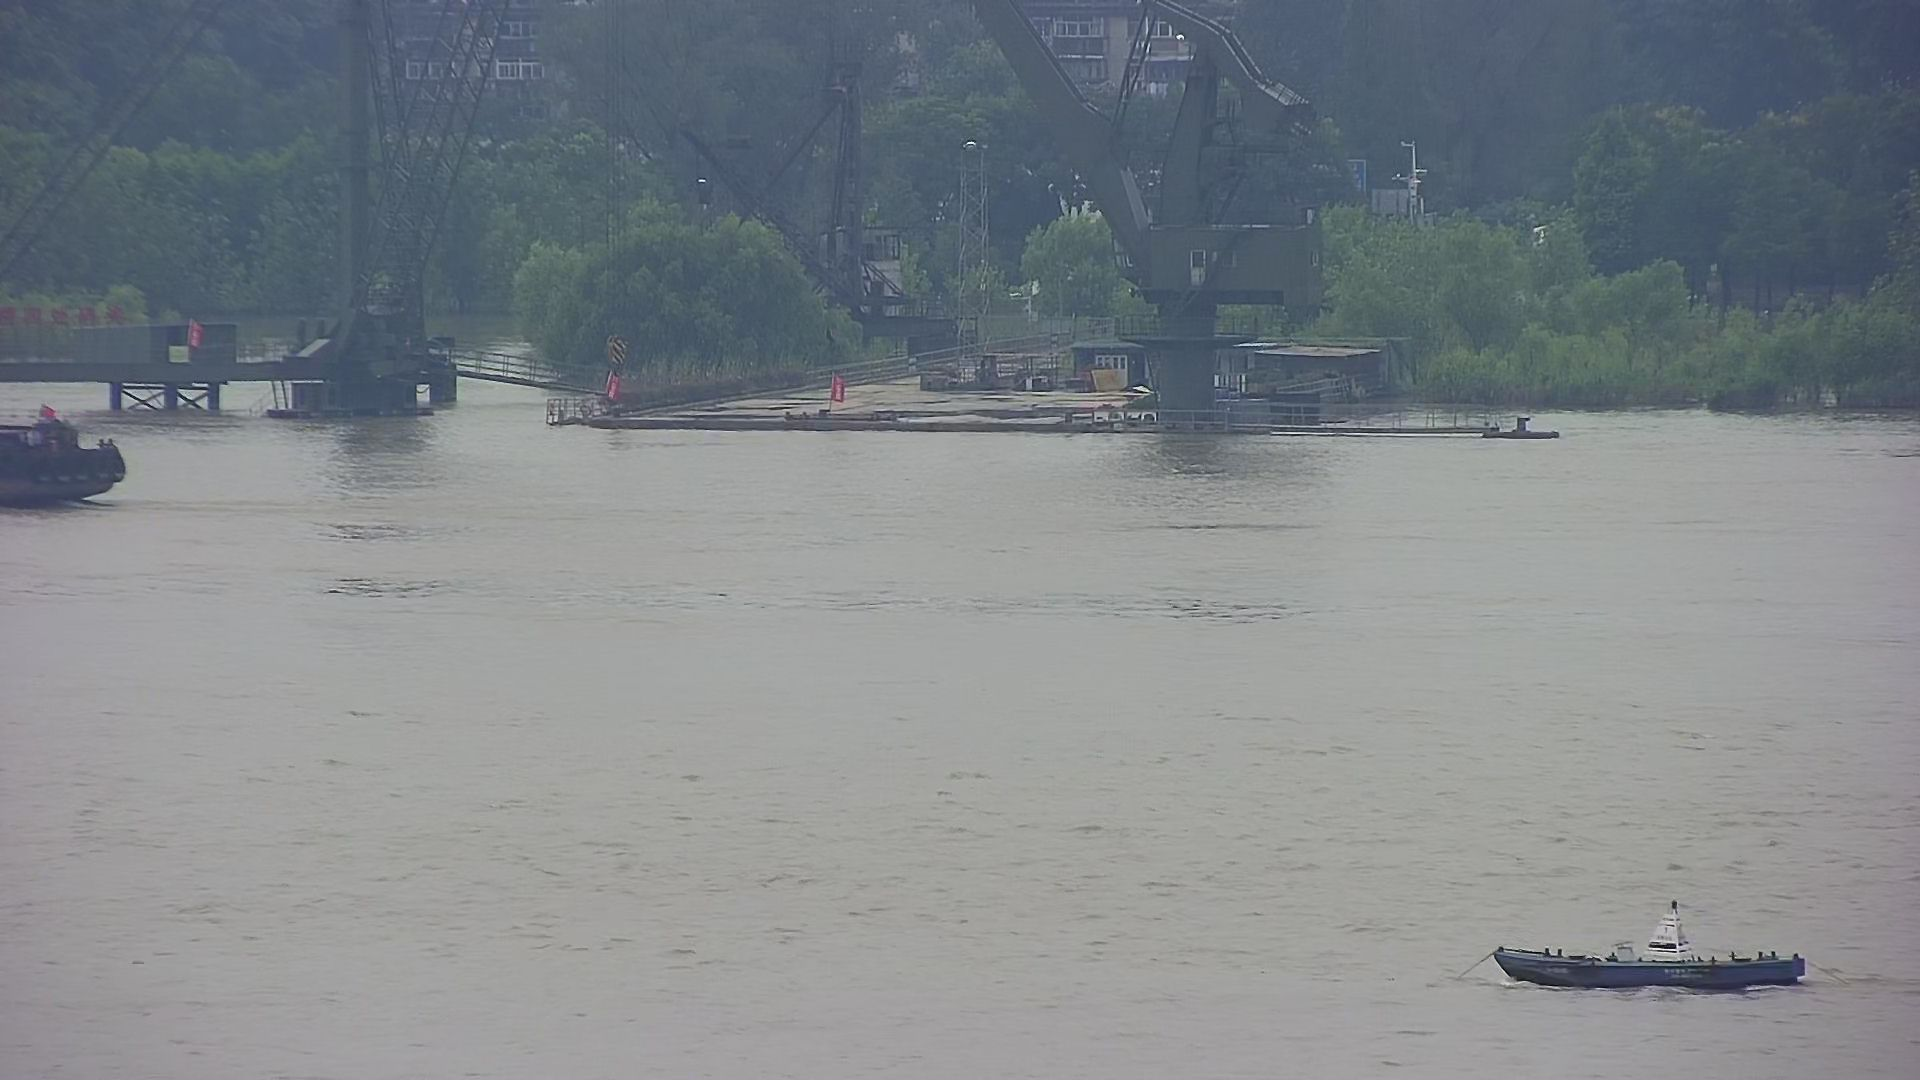boat: (1465, 884, 1844, 1000)
platform: (1, 1, 483, 425)
